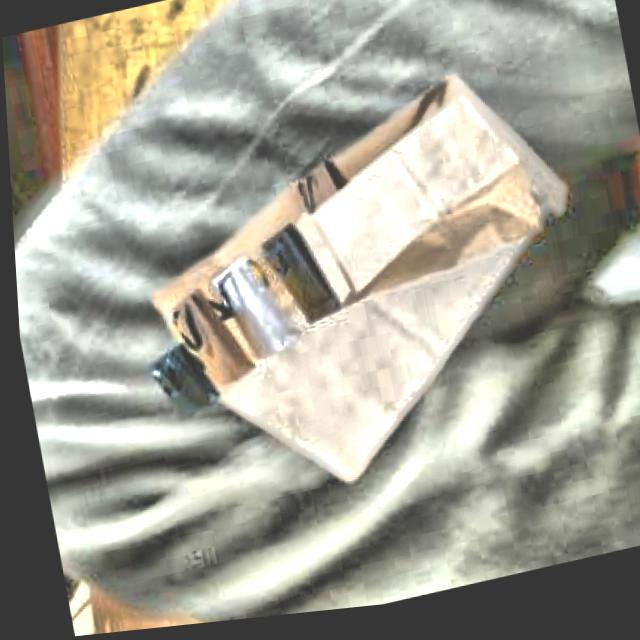Paper-bag: (102, 56, 622, 527), (95, 207, 390, 451)
